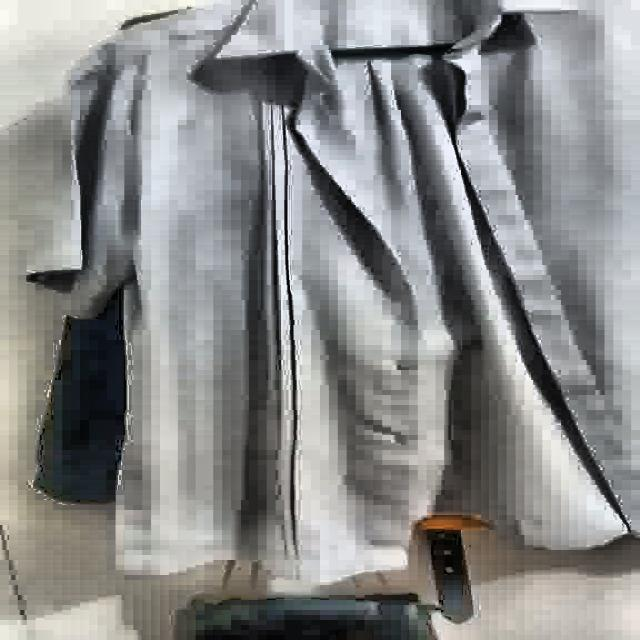clothes: (26, 0, 640, 586)
